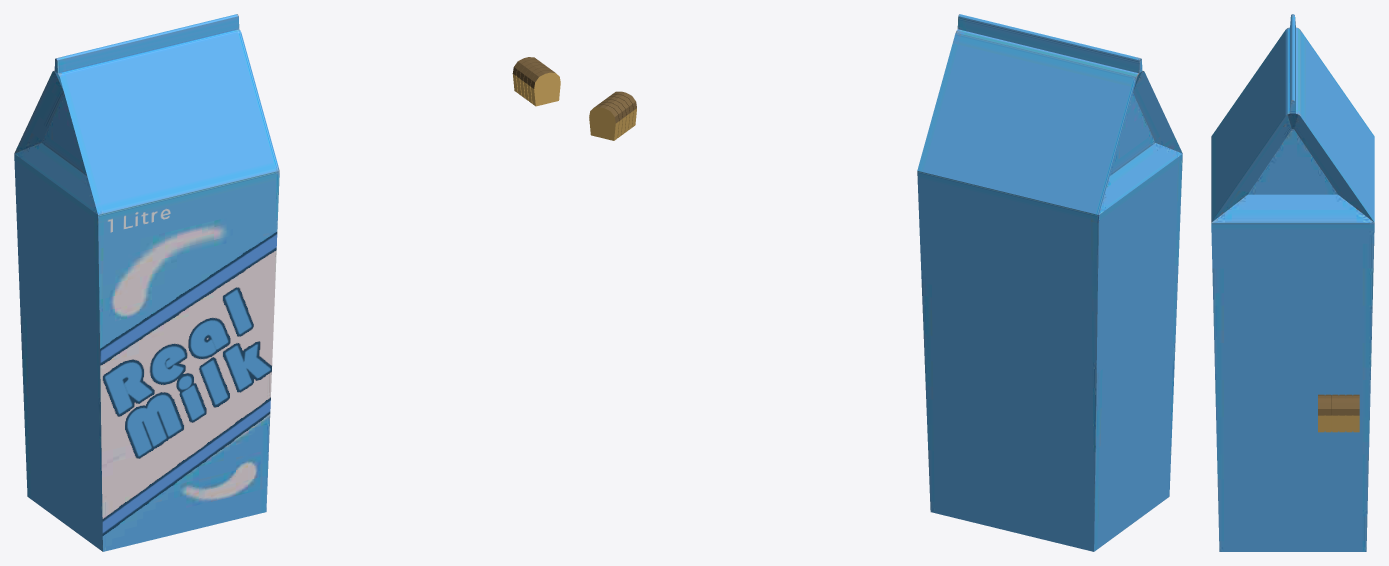
Rendered from Milk.fbx.
The picture shows the model from 3 angles, left to right: view 1: azimuth 30°, elevation 25°; view 2: azimuth 150°, elevation 25°; view 3: azimuth 270°, elevation 25°; orthographic projection. The views are drawn at different scales.
Parts seen in each view (by area): view 1: Cube, Cube.015; view 2: Cube, Cube.015; view 3: Cube, Cube.015.
Boxes of the visible parts, box(x1,y1,x2,y2) form: Cube: box(14, 14, 279, 551); Cube.015: box(512, 57, 560, 106); Cube: box(917, 14, 1182, 551); Cube.015: box(589, 91, 636, 140); Cube: box(1211, 14, 1374, 551); Cube.015: box(1318, 394, 1359, 432).
Size of the model in its own units: 712 by 615 by 200.
